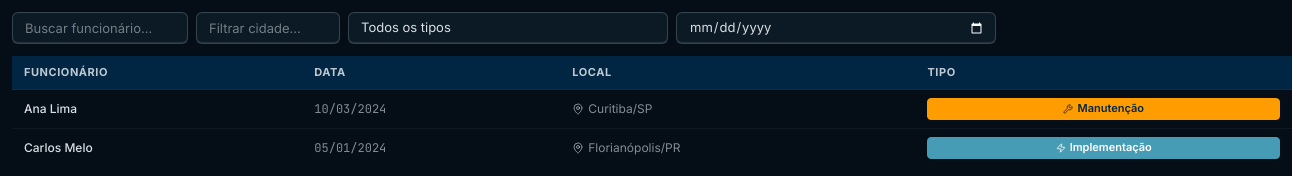
Scenario: MachineJobHistory › filtra por cidade ao digitar
In the field with placeholder "Filtrar cidade…": {"x": 268, "y": 28} [196, 12, 340, 44], type "Curitiba"
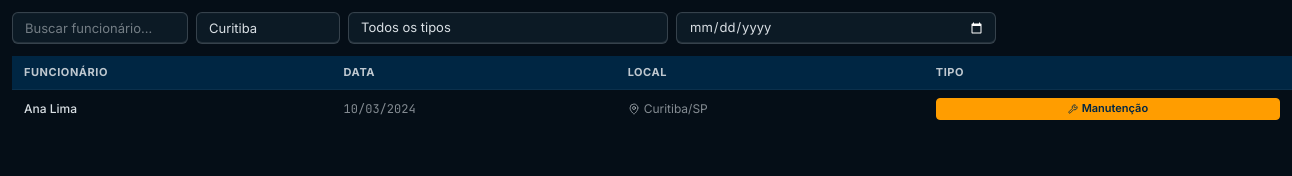
Expected: the text "Ana Lima" is shown, [12, 90, 332, 128]
Now the button "Carlos Melo" is gone
